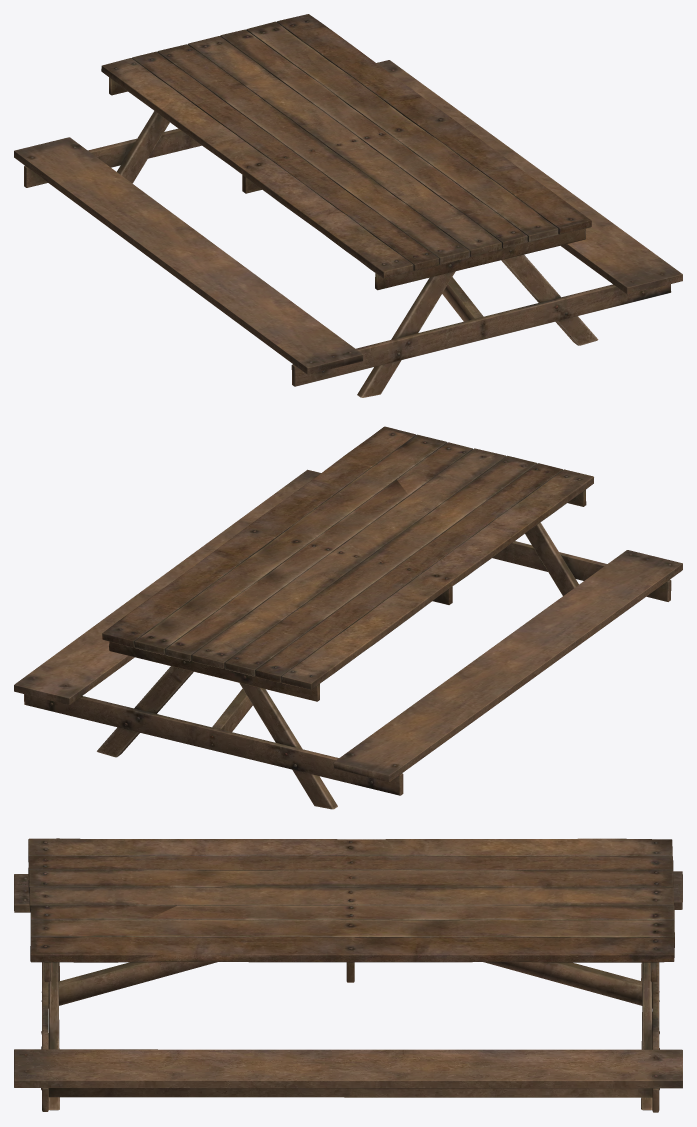
File: wooden_picnic_table.glb
3 renders of one model, top to bottom at view 1: azimuth 30°, elevation 25°; view 2: azimuth 150°, elevation 25°; view 3: azimuth 270°, elevation 25°, orthographic. The views are drawn at different scales.
Parts seen in each view (by area): view 1: wooden_picnic_table; view 2: wooden_picnic_table; view 3: wooden_picnic_table.
Boxes of the visible parts, x1=… form: wooden_picnic_table: x1=14, y1=14, x2=682, y2=397; wooden_picnic_table: x1=14, y1=426, x2=682, y2=809; wooden_picnic_table: x1=14, y1=838, x2=682, y2=1112.
Size of the model in its own units: 2.24 by 0.746 by 3.02.
Materials: 2 (2 with a texture image).
